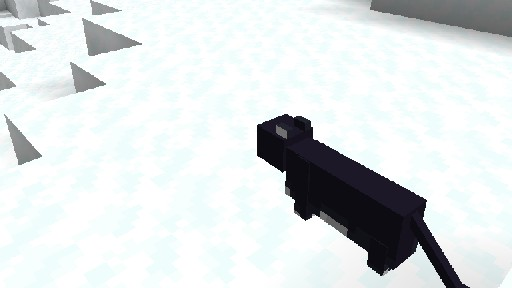cat: (256, 112, 512, 288)
